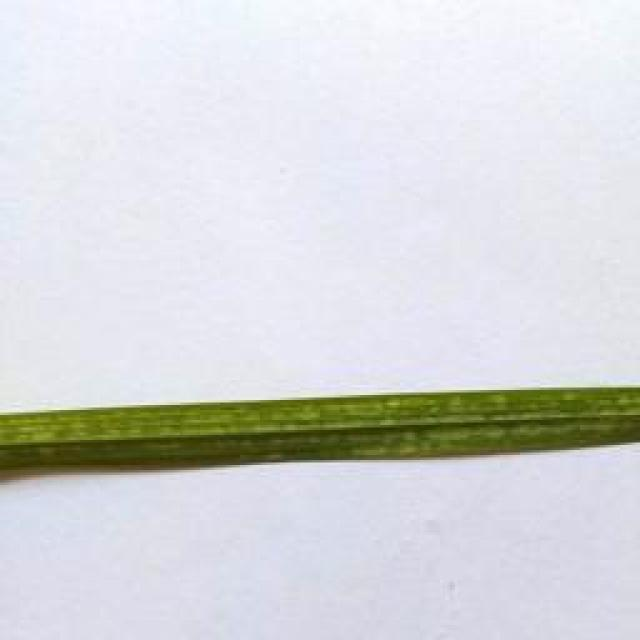Healthy-Plant: (3, 382, 640, 460)
